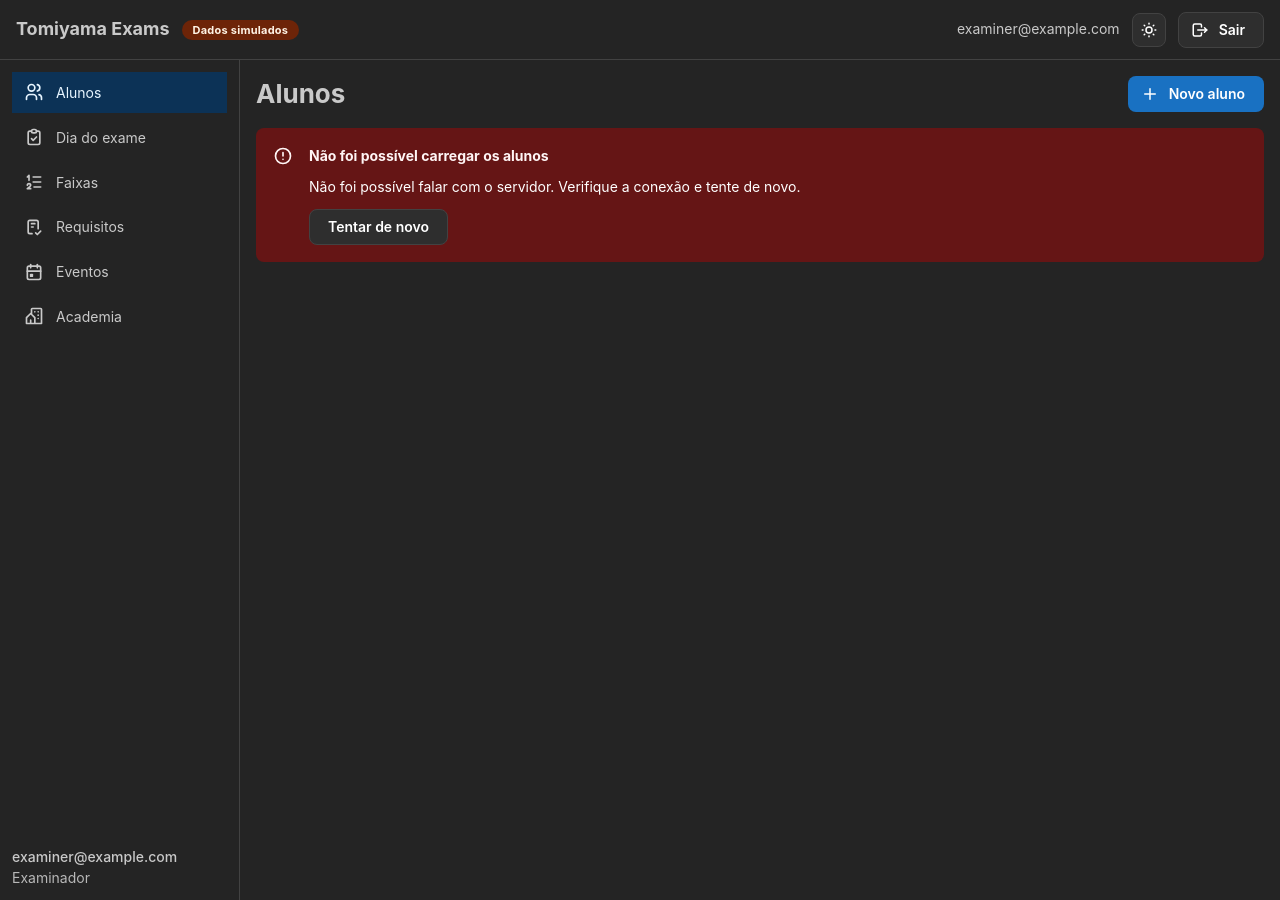
layout (§ 6.7) › signs out and goes back to the login
What coordinates should you click on to do the following:
click the button "Sair"
I would click on:
 (1221, 30)
Its box is [1178,12,1264,48].
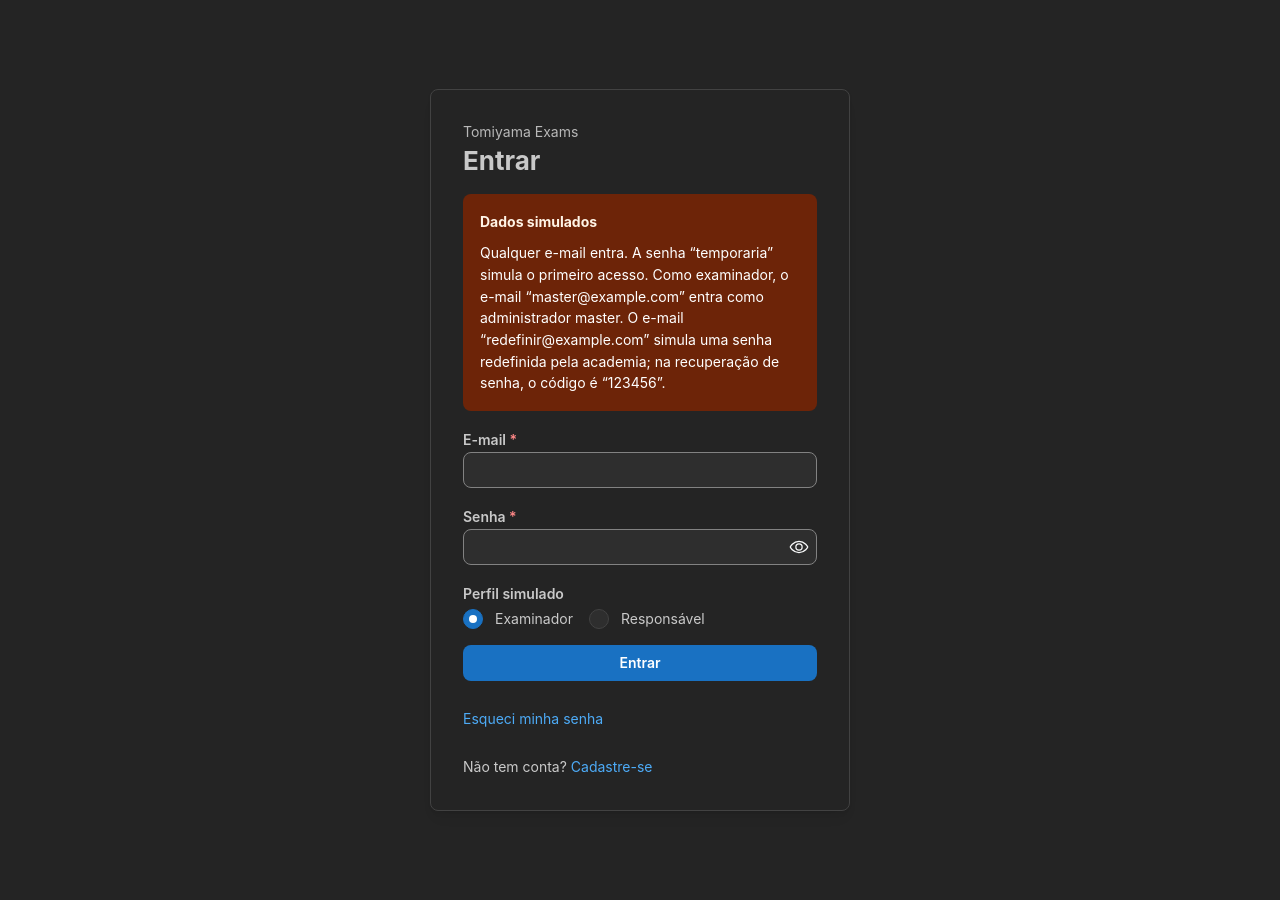
Result: the heading "Entrar" is shown at [463,144,540,176]
